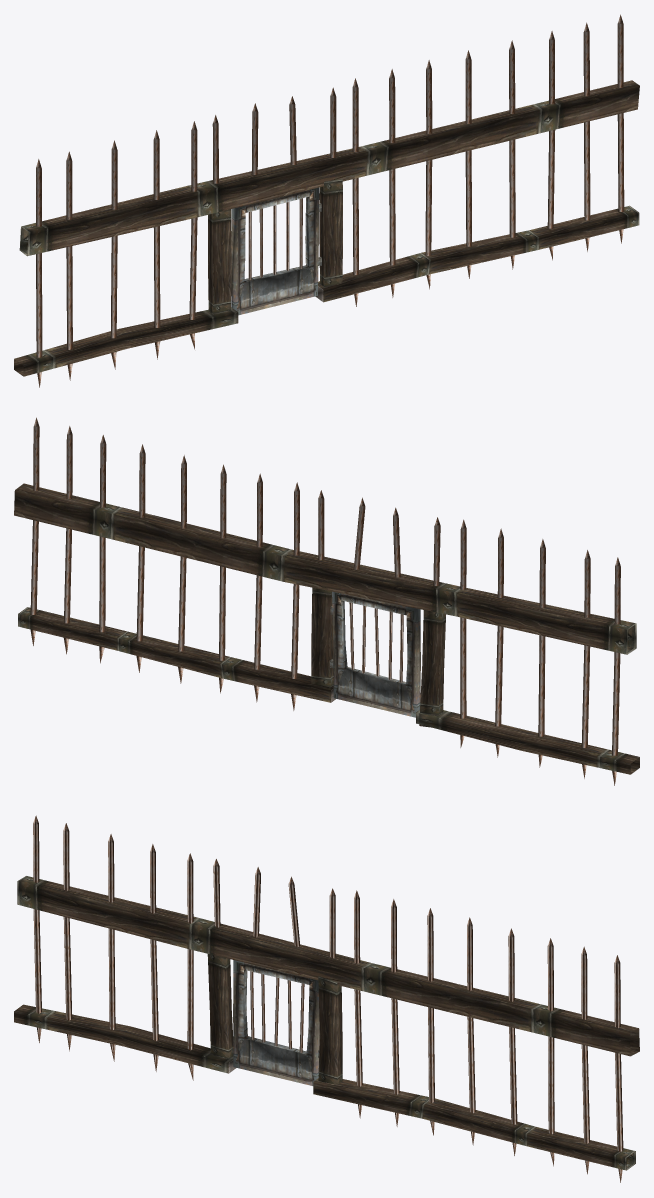
File: prisoncell01.obj
The picture shows the model from 3 angles, top to bottom: view 1: azimuth 30°, elevation 25°; view 2: azimuth 150°, elevation 25°; view 3: azimuth 330°, elevation 25°; orthographic projection.
Visible parts, largest first — view 1: 1, 0; view 2: 1, 0; view 3: 1, 0.
Part boxes in pixels (bbox=[...]): 1: bbox=[14, 80, 639, 376]; 0: bbox=[36, 14, 624, 387]; 1: bbox=[14, 483, 639, 774]; 0: bbox=[30, 417, 620, 785]; 1: bbox=[14, 876, 639, 1170]; 0: bbox=[33, 815, 623, 1182].
Bounding box in the file's own units: 20.14 × 7.19 × 0.7766.
2 materials, 2 textured.
